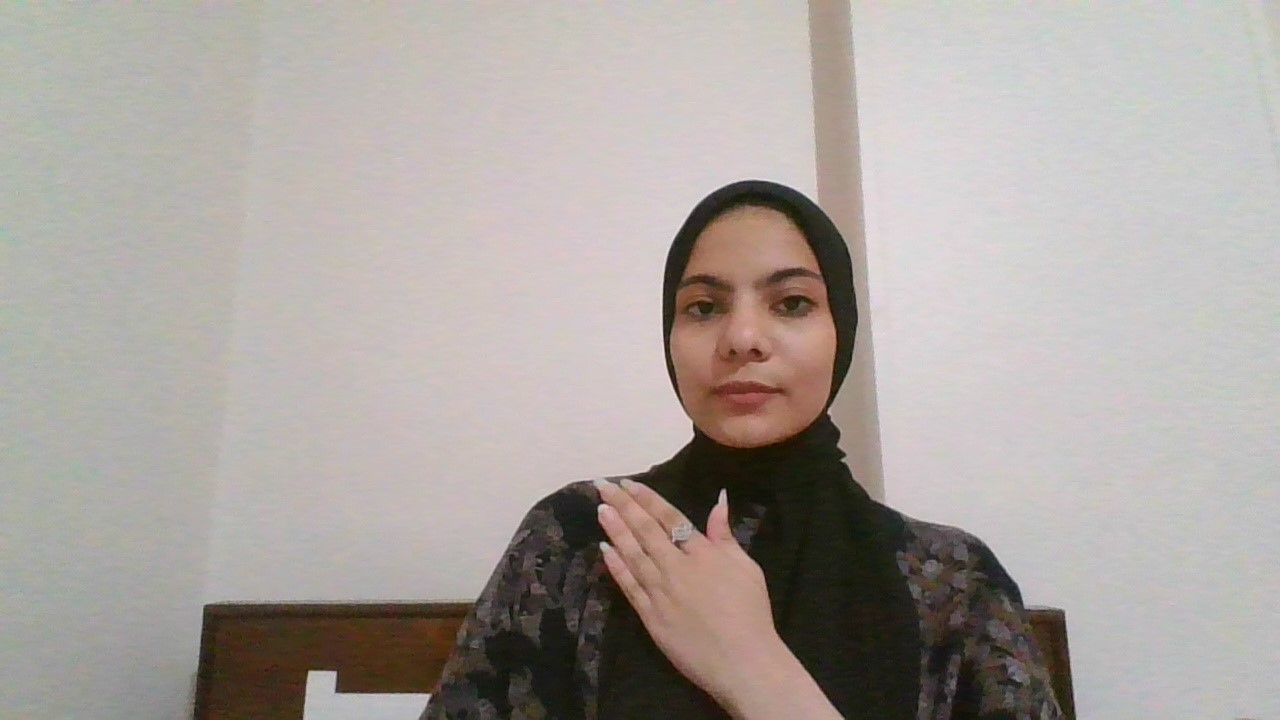please: (573, 465, 774, 679)
